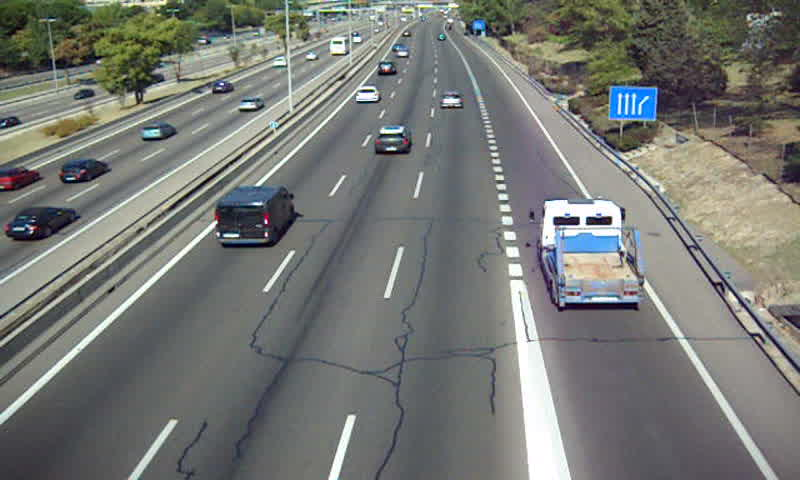car: (374, 126, 410, 156), (439, 90, 464, 111), (354, 85, 381, 102), (376, 60, 395, 76)
small-truck: (536, 200, 643, 309)
van: (214, 186, 293, 247)
